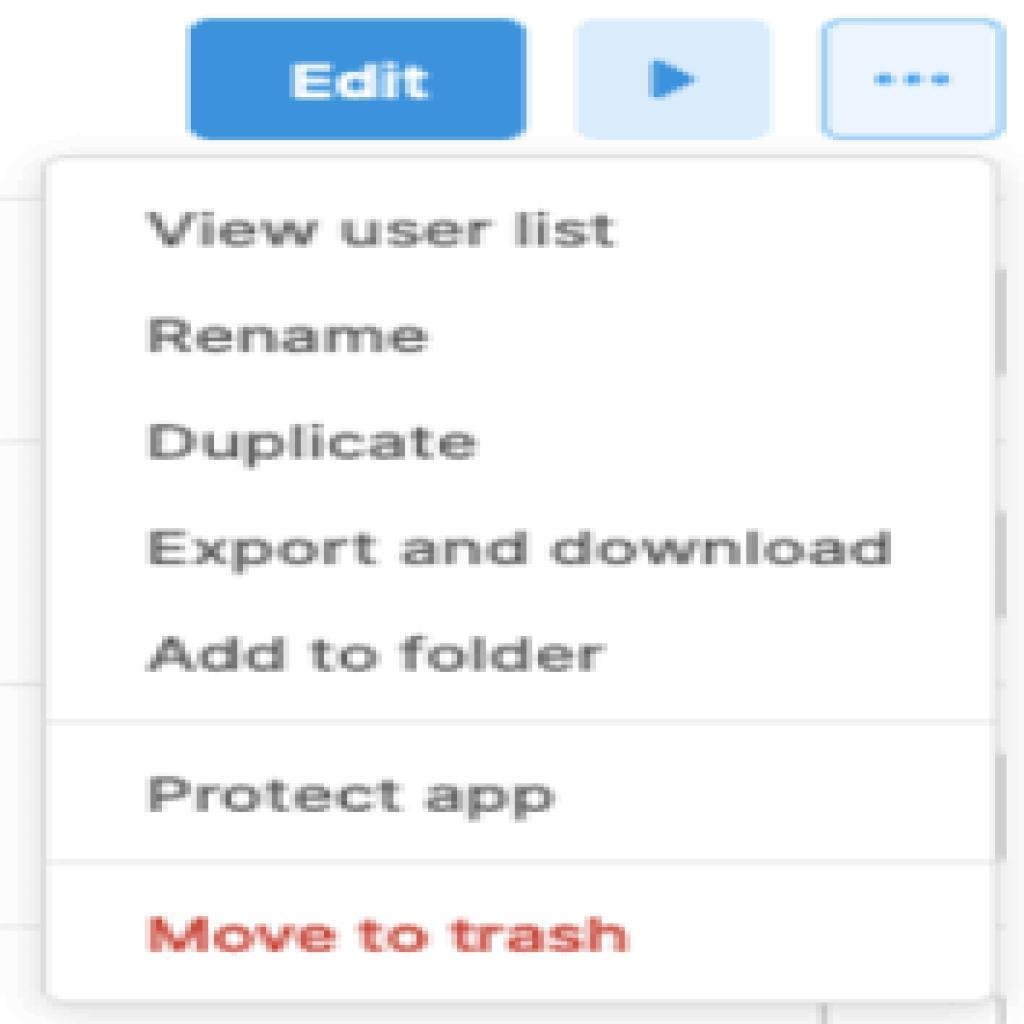button: (47, 725, 996, 863), (187, 18, 529, 142)
icon: (631, 50, 711, 109), (870, 54, 958, 103)
label: (134, 518, 908, 579), (135, 624, 624, 685), (144, 904, 632, 965), (134, 204, 626, 256), (138, 417, 487, 478), (138, 305, 440, 369)
